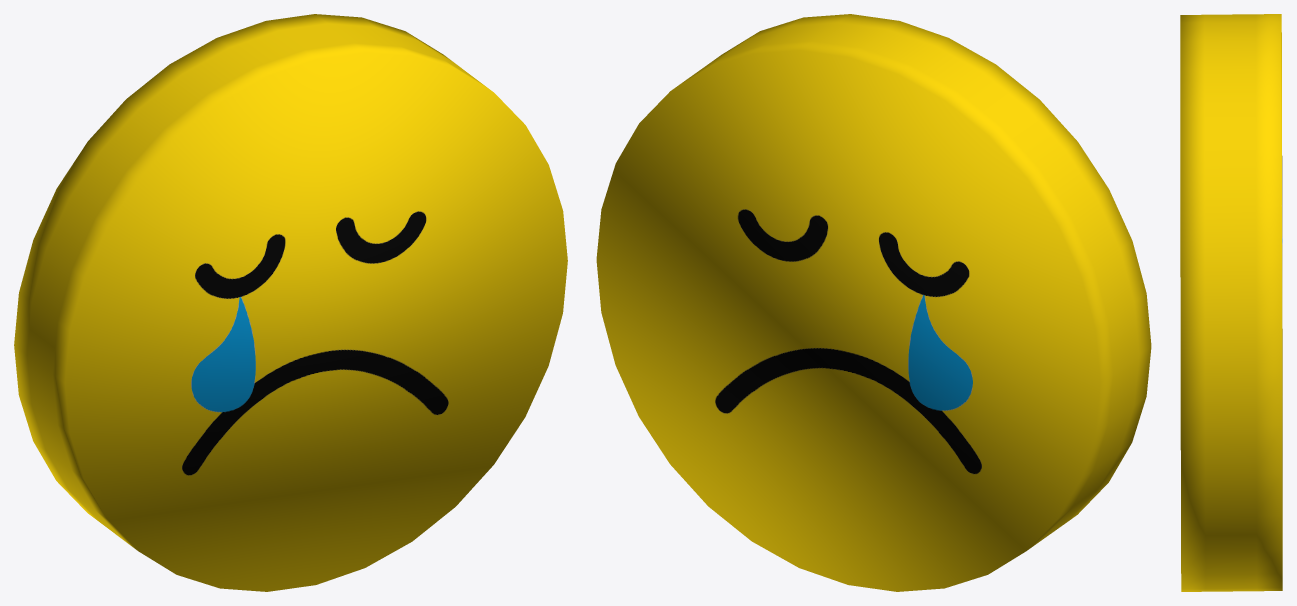
The model's file is emotion4.gltf.
The picture shows the model from 3 angles, left to right: view 1: azimuth 30°, elevation 25°; view 2: azimuth 150°, elevation 25°; view 3: azimuth 270°, elevation 25°; orthographic projection.
Visible parts, largest first — view 1: 4; view 2: 4; view 3: 4.
Part boxes in pixels (x1,y1,x2,y2): 4: [14, 14, 567, 591]; 4: [596, 14, 1151, 591]; 4: [1180, 14, 1282, 591].
Bounding box in the file's own units: 0.2522 × 0.2527 × 0.0448.
Materials: 1 (1 with a texture image).
